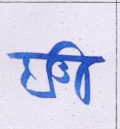i_matra: (58, 41, 95, 105)
